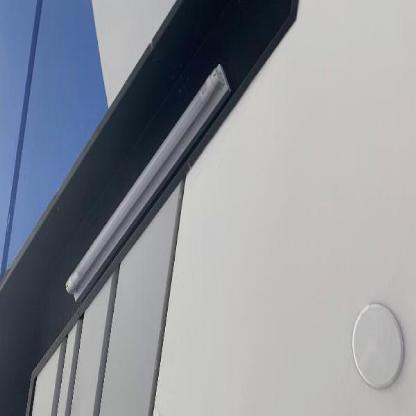light_off: (60, 41, 235, 324)
